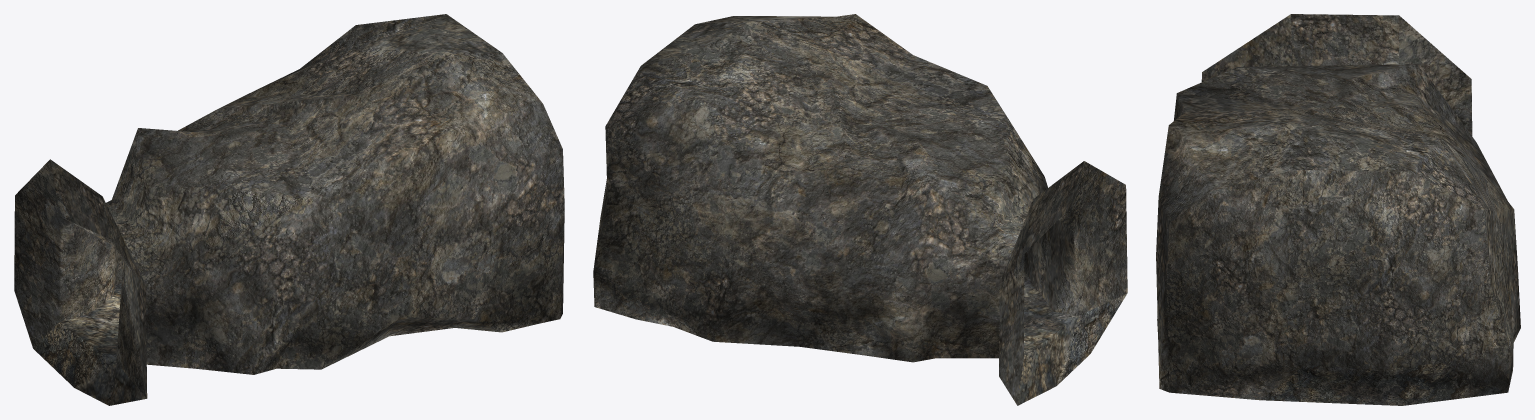
Rendered from Cave38.fbx.
3 renders of one model, left to right at view 1: azimuth 30°, elevation 25°; view 2: azimuth 150°, elevation 25°; view 3: azimuth 270°, elevation 25°, orthographic. The views are drawn at different scales.
Parts seen in each view (by area): view 1: Cave38; view 2: Cave38; view 3: Cave38.
Boxes of the visible parts, box(x1,y1,x2,y2) form: Cave38: box(14, 14, 564, 405); Cave38: box(593, 14, 1127, 405); Cave38: box(1156, 14, 1520, 405).
Bounding box in the file's own units: 131 × 79.05 × 93.35.
